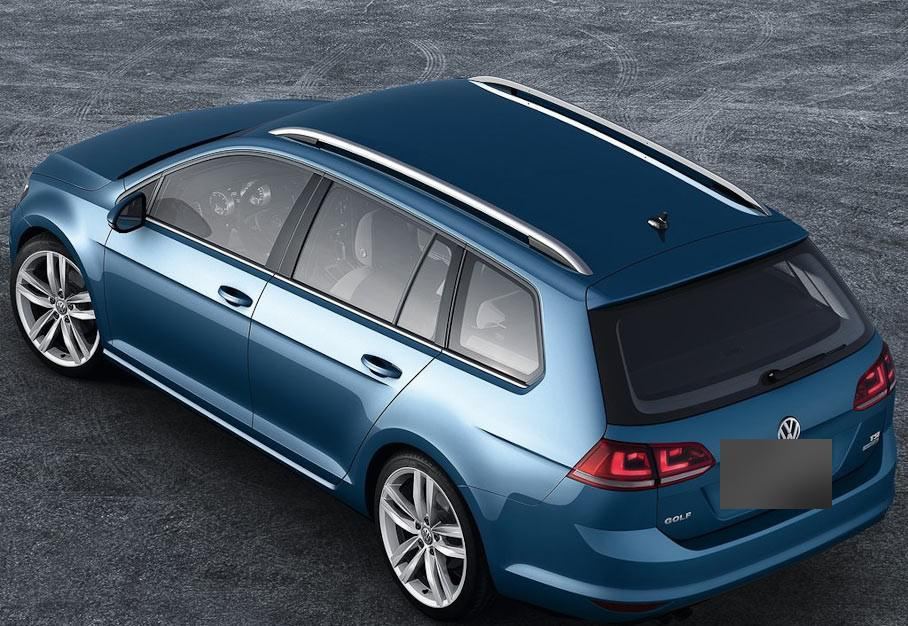Wagon: (8, 74, 899, 626)
